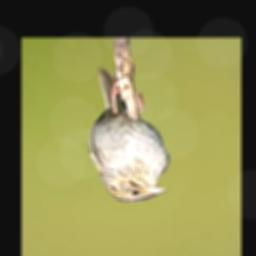Sparrow: (88, 68, 171, 205)
